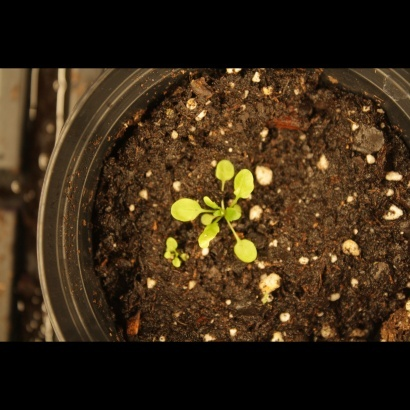leaf: (166, 195, 205, 224), (231, 168, 259, 201), (231, 236, 262, 265), (212, 155, 238, 185), (196, 221, 221, 251), (224, 204, 247, 227), (203, 192, 226, 215), (199, 209, 222, 232), (161, 230, 184, 253), (165, 254, 188, 277)
